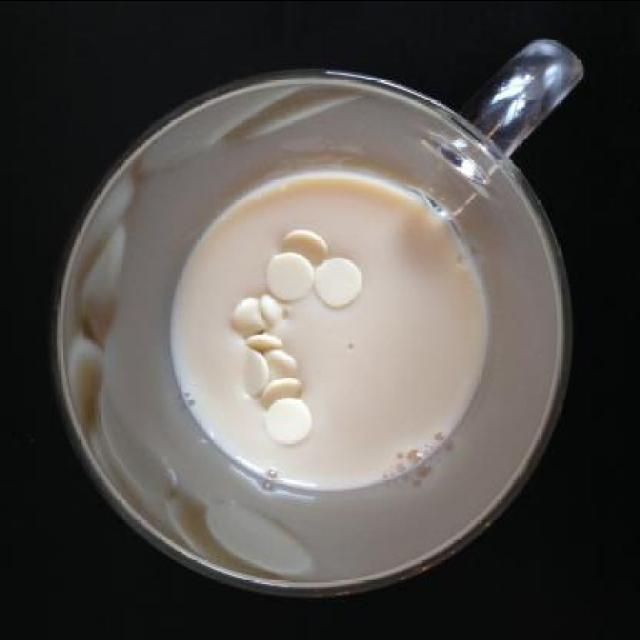Milk: (133, 118, 525, 556)
